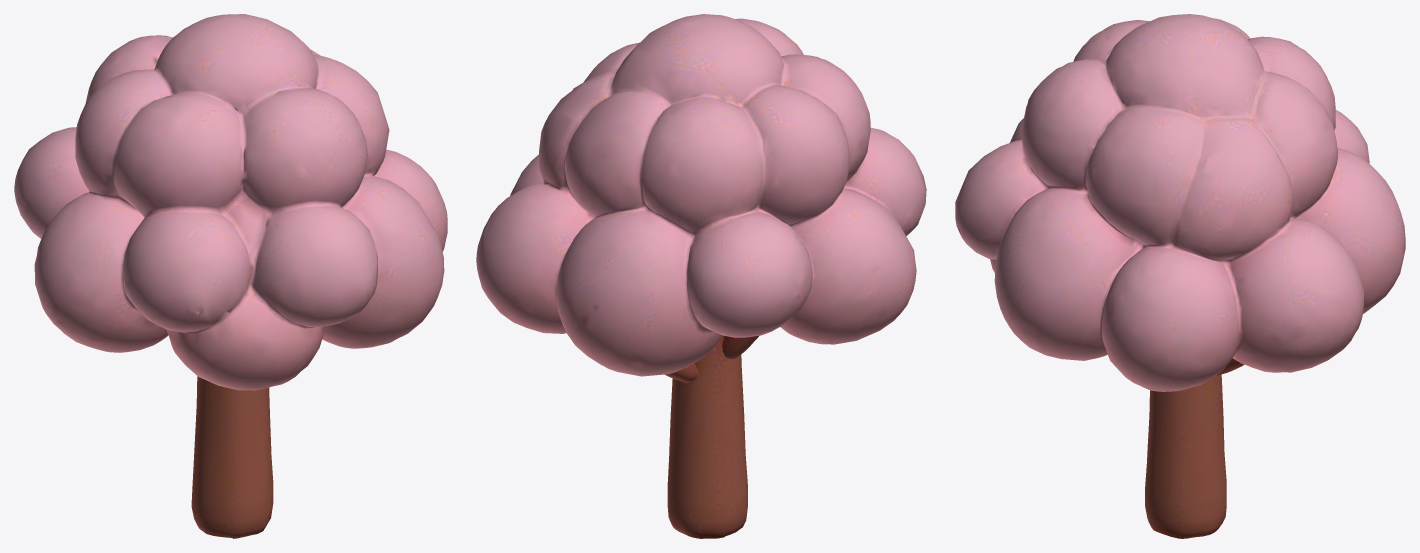
File: tree_sakura.glb
3 views of the same model, side by side, from view 1: azimuth 30°, elevation 25°; view 2: azimuth 150°, elevation 25°; view 3: azimuth 270°, elevation 25° (orthographic).
Parts seen in each view (by area): view 1: tripo_node_159841e1-adb5-4067-a081-6860db6e1c4d; view 2: tripo_node_159841e1-adb5-4067-a081-6860db6e1c4d; view 3: tripo_node_159841e1-adb5-4067-a081-6860db6e1c4d.
Part boxes in pixels (box(x1,y1,x2,y2)): tripo_node_159841e1-adb5-4067-a081-6860db6e1c4d: box(14, 14, 447, 538); tripo_node_159841e1-adb5-4067-a081-6860db6e1c4d: box(476, 14, 926, 538); tripo_node_159841e1-adb5-4067-a081-6860db6e1c4d: box(955, 14, 1405, 538).
Size of the model in its own units: 0.8105 by 0.998 by 0.8066.
1 material, 1 textured.
